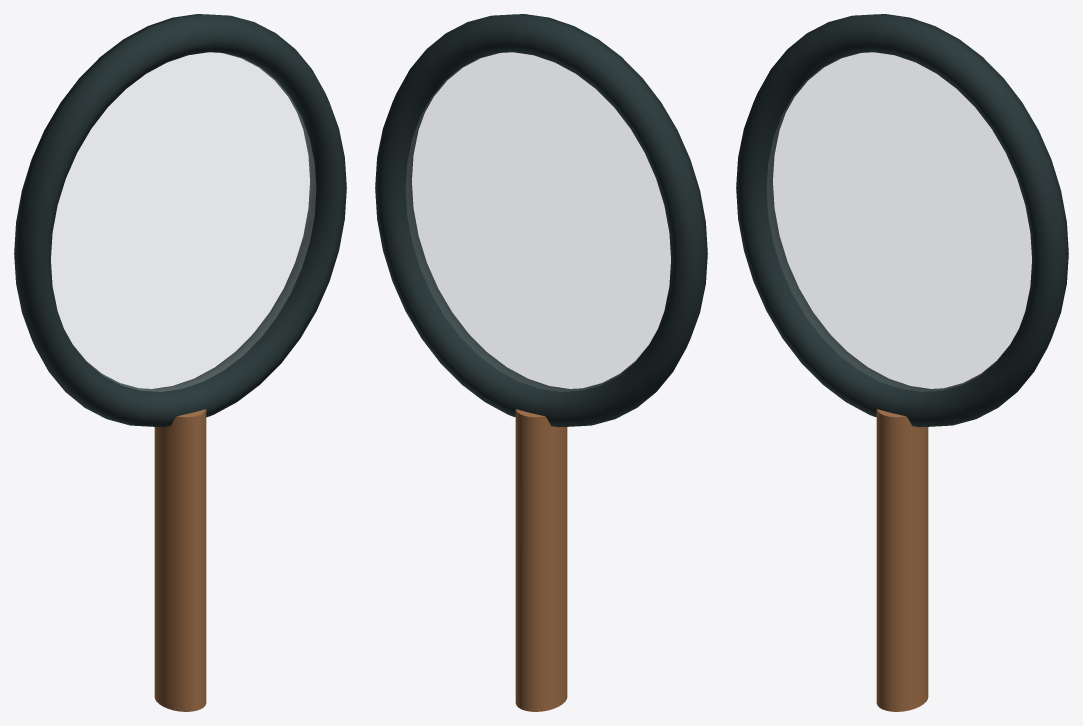
The model's file is wp-loupe.glb.
3 renders of one model, left to right at view 1: azimuth 30°, elevation 25°; view 2: azimuth 150°, elevation 25°; view 3: azimuth 330°, elevation 25°, orthographic.
Parts seen in each view (by area): view 1: wp-loupe; view 2: wp-loupe; view 3: wp-loupe.
Boxes of the visible parts, bbox=[...] form: wp-loupe: bbox=[14, 14, 346, 711]; wp-loupe: bbox=[375, 14, 707, 711]; wp-loupe: bbox=[736, 14, 1068, 711].
Size of the model in its own units: 0.15 by 0.3 by 0.025.
